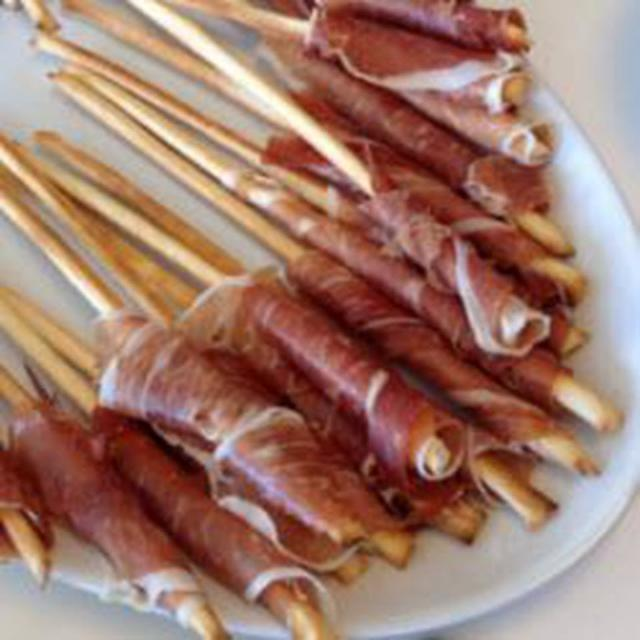Grissini: (2, 5, 616, 591)
